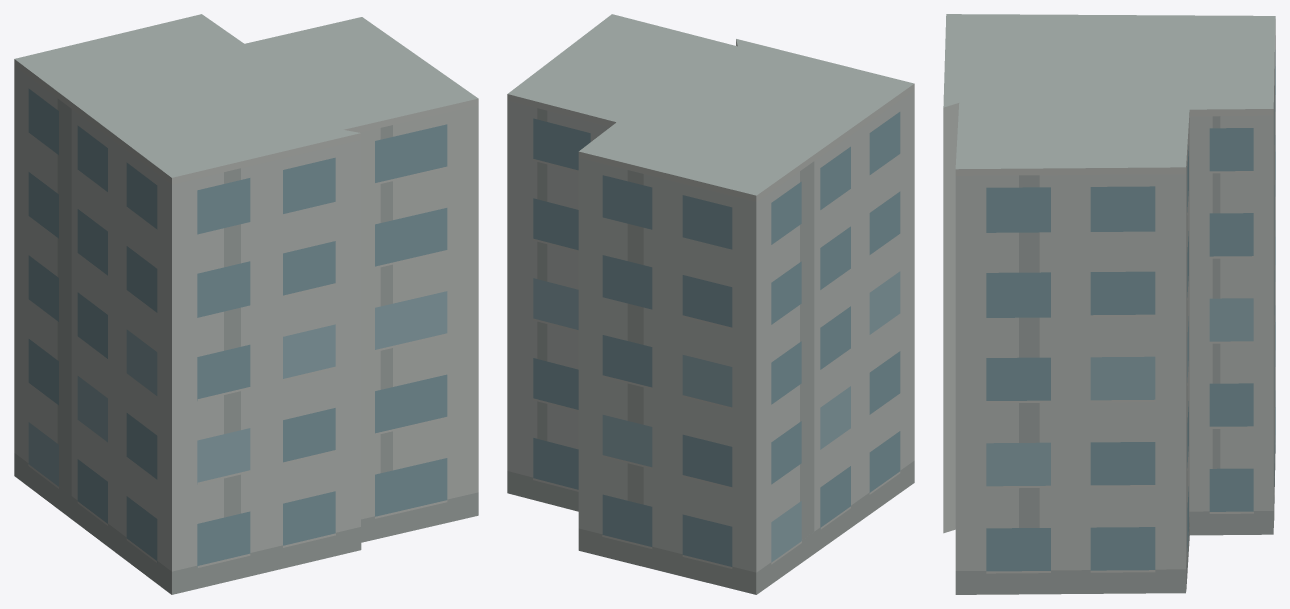
The model's file is survey-upis-32873814.glb.
The picture shows the model from 3 angles, left to right: view 1: azimuth 30°, elevation 25°; view 2: azimuth 150°, elevation 25°; view 3: azimuth 270°, elevation 25°; orthographic projection. The views are drawn at different scales.
Visible parts, largest first — view 1: survey-upis-32873814.tmp; view 2: survey-upis-32873814.tmp; view 3: survey-upis-32873814.tmp.
Boxes of the visible parts, x1=… form: survey-upis-32873814.tmp: x1=14, y1=14, x2=478, y2=594; survey-upis-32873814.tmp: x1=507, y1=14, x2=914, y2=594; survey-upis-32873814.tmp: x1=943, y1=14, x2=1275, y2=594.
Bounding box in the file's own units: 11.93 × 15.25 × 10.79.
